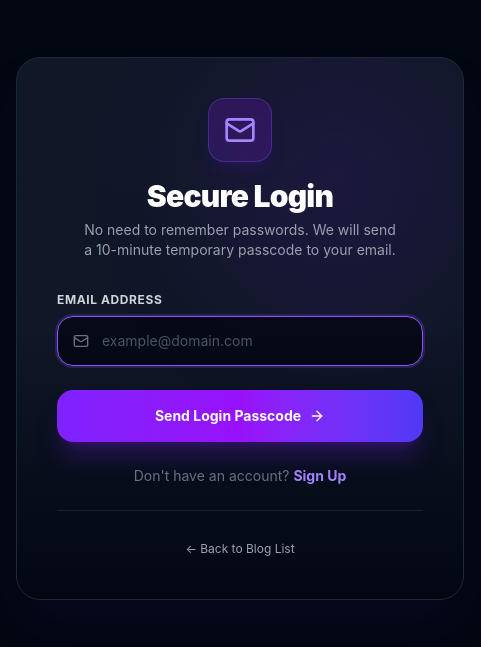
Test: Login Page - Passwordless OTP Flow › should lock input and show lockout banner when 5 failed attempts reached (HTTP 423)
The width and height of the screenshot is (481, 647).
Note: Send code
Type "hacker@onurd.com" into the field with placeholder "example@domain.com" at (240,340), box [57,316,423,366]
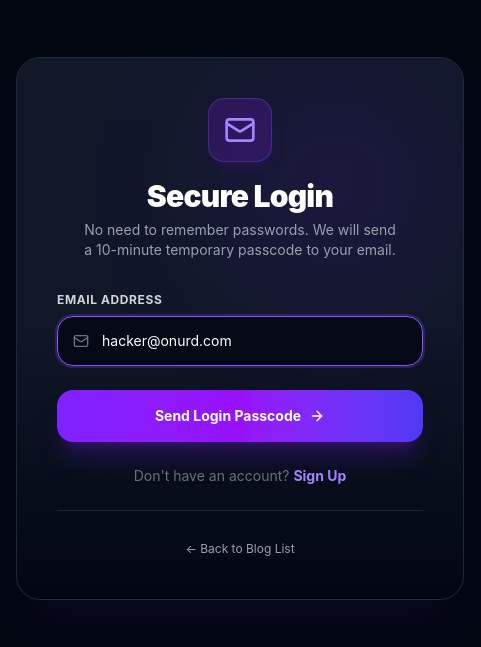
Click the button "Send Login Passcode" at (240,416), box [57,390,423,442]
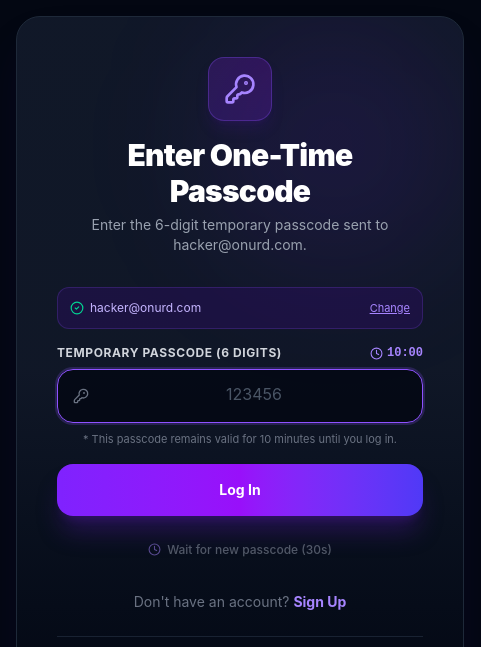
Now the field with placeholder "123456" is shown
Type "000000" into the field with placeholder "123456" at (240,396), box [57,369,423,423]
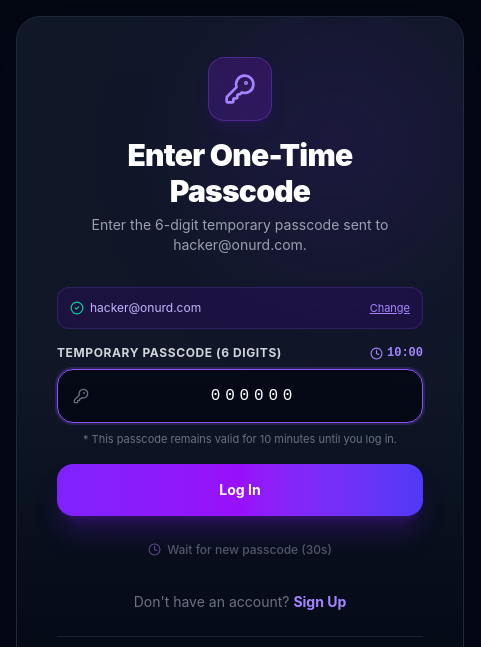
Click the button "Log In" at (240,490), box [57,464,423,516]
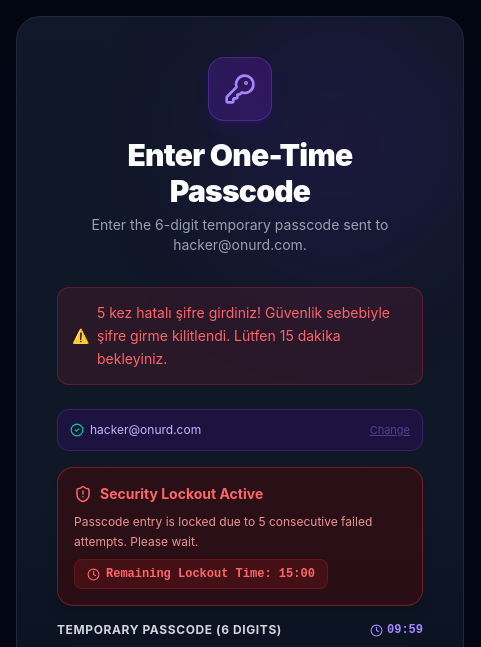
Now the text "Security Lockout Active" is shown, box [100,484,263,504]
Now the text "Remaining Lockout Time: 15:00" is shown, box [106,566,315,582]
Now the button "Change" is disabled, box [370,423,410,438]
